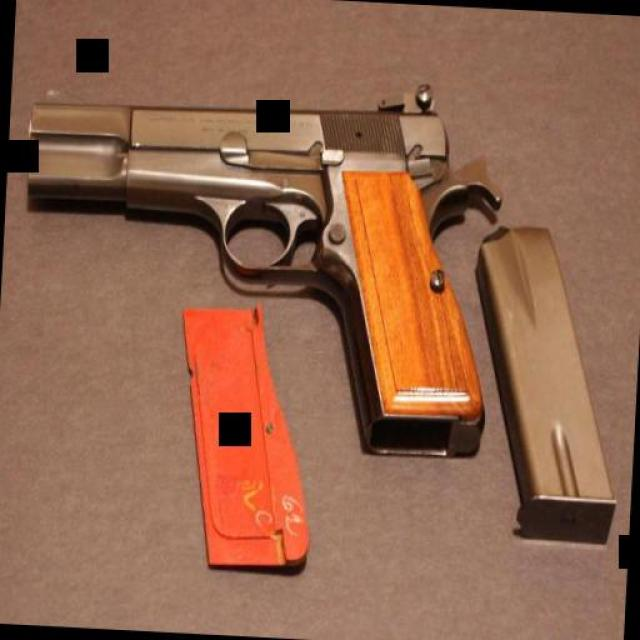gun: (2, 61, 508, 472)
